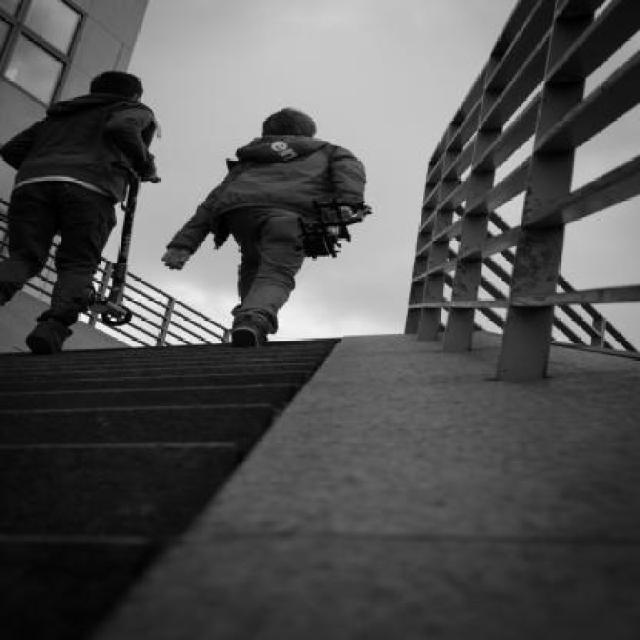stair: (0, 338, 343, 640)
